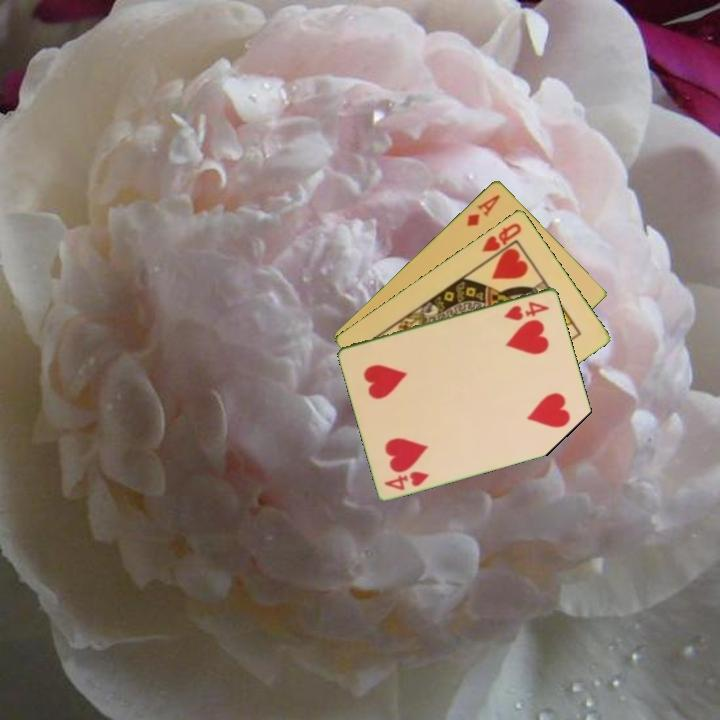4h: (500, 297, 552, 323), (381, 467, 432, 493)
Ad: (463, 190, 503, 229)
Qh: (478, 219, 525, 255)
